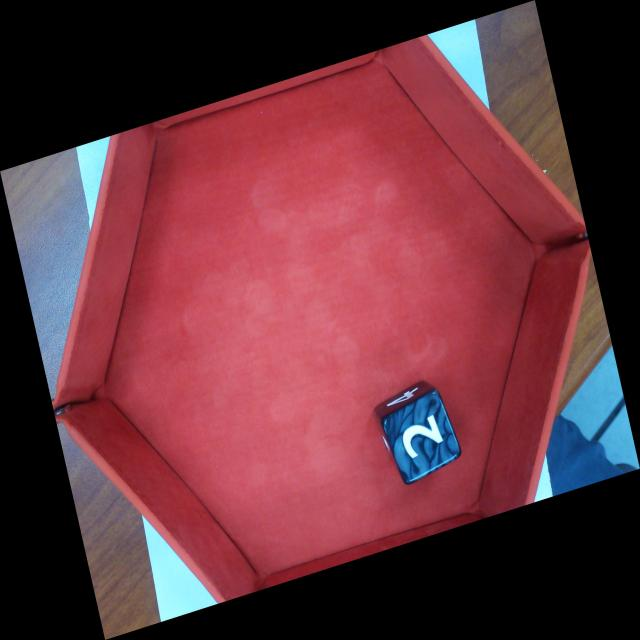dice: (383, 390, 463, 490)
